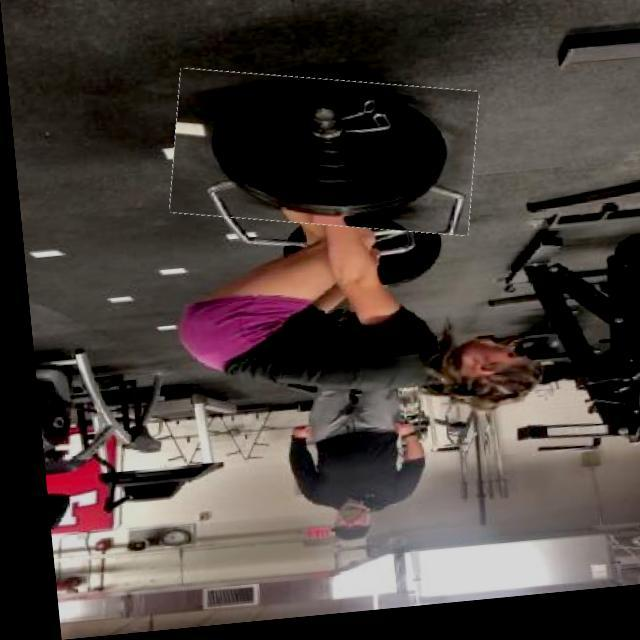barbell: (162, 63, 482, 255)
